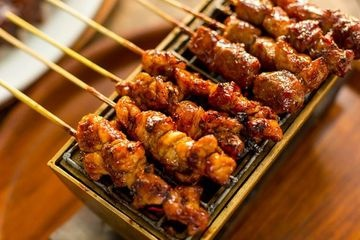sate: (0, 0, 281, 234)
